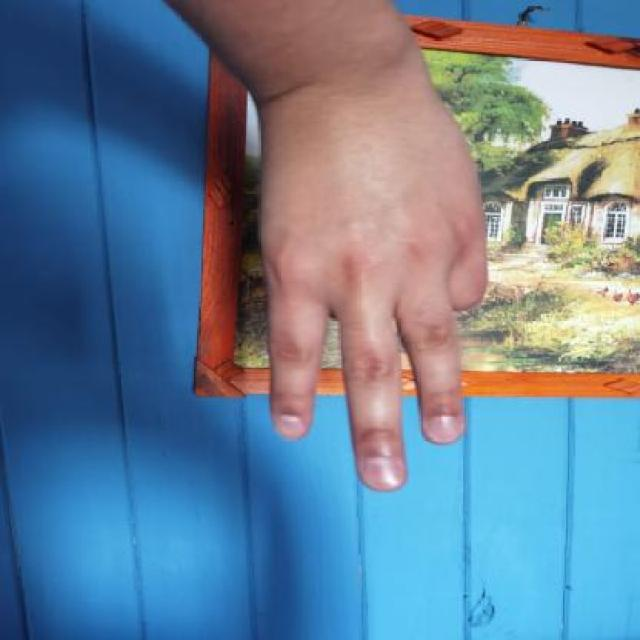M: (211, 74, 531, 500)
